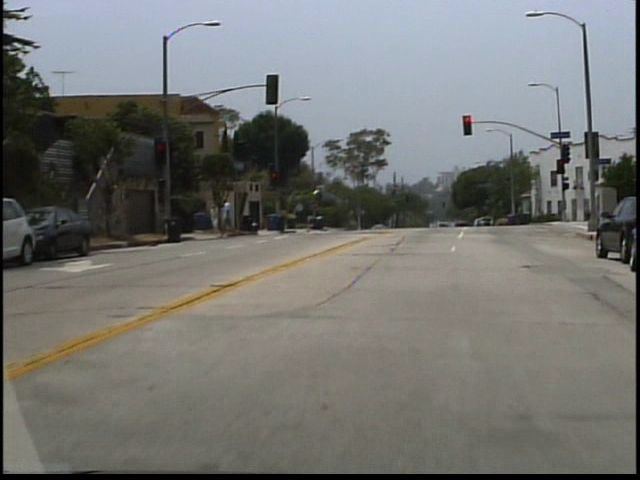person: (225, 197, 241, 239), (215, 203, 224, 236)
